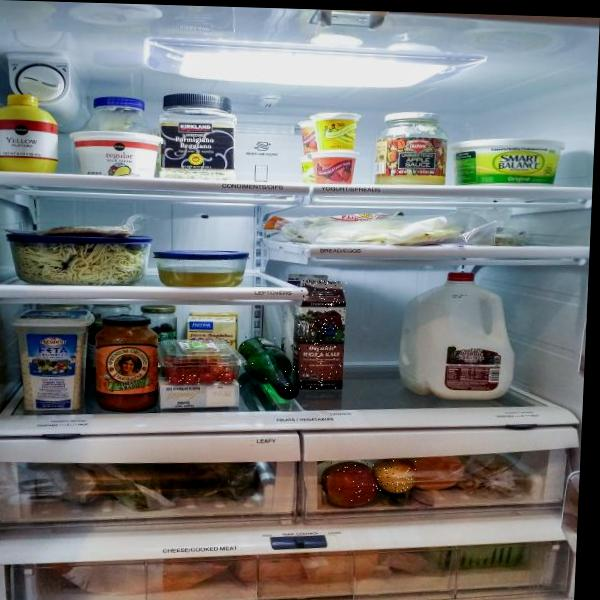apple: (322, 462, 378, 507), (374, 460, 417, 492)
milk: (294, 279, 347, 390)
mineral water: (238, 336, 298, 394)
tomato: (217, 370, 237, 385), (168, 371, 184, 383), (200, 372, 216, 383), (184, 374, 200, 384)
